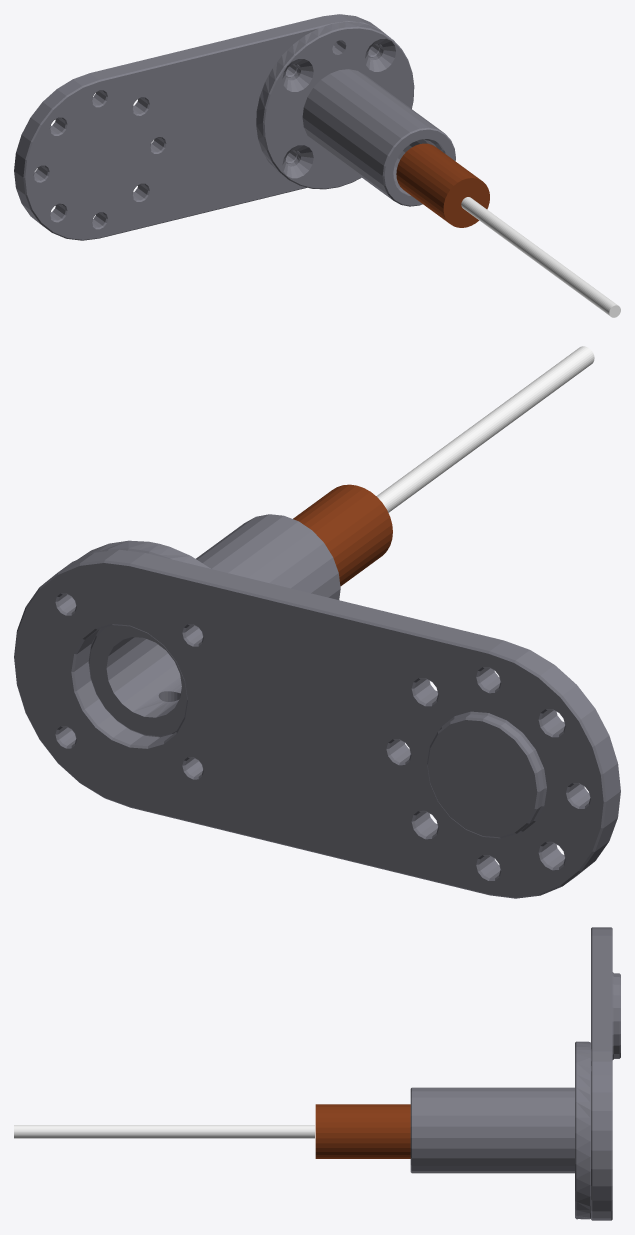
The model's file is toolCaliProbe.obj.
3 renders of one model, top to bottom at view 1: azimuth 30°, elevation 25°; view 2: azimuth 150°, elevation 25°; view 3: azimuth 270°, elevation 25°, orthographic. The views are drawn at different scales.
Visible parts, largest first — view 1: CNC-0635, Cylinder, Cylinder.001; view 2: CNC-0635, Cylinder, Cylinder.001; view 3: CNC-0635, Cylinder, Cylinder.001.
Part boxes in pixels (x1,y1,x2,y2): CNC-0635: (14,14,455,240); Cylinder: (396,143,489,227); Cylinder.001: (461,197,620,317); CNC-0635: (14,514,620,898); Cylinder: (293,484,392,586); Cylinder.001: (376,346,594,512); CNC-0635: (410,927,620,1220); Cylinder: (315,1104,410,1158); Cylinder.001: (14,1125,314,1138).
Bounding box in the file's own units: 0.165 × 0.0652 × 0.2218.
